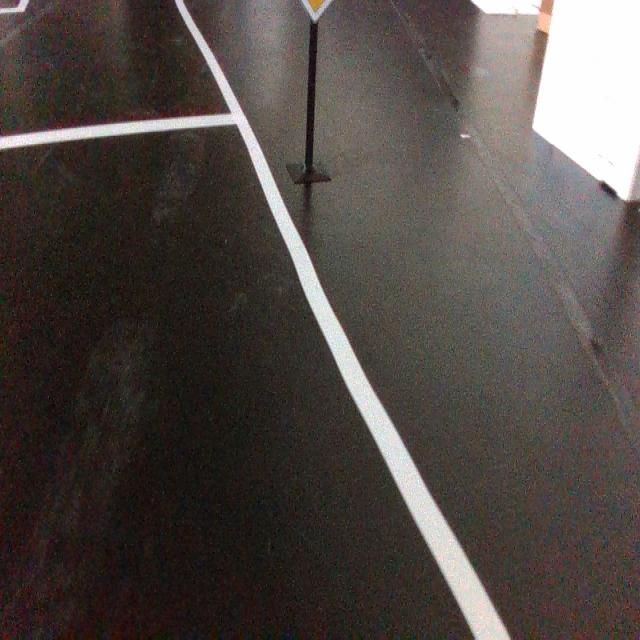priority-sign: (297, 0, 334, 24)
